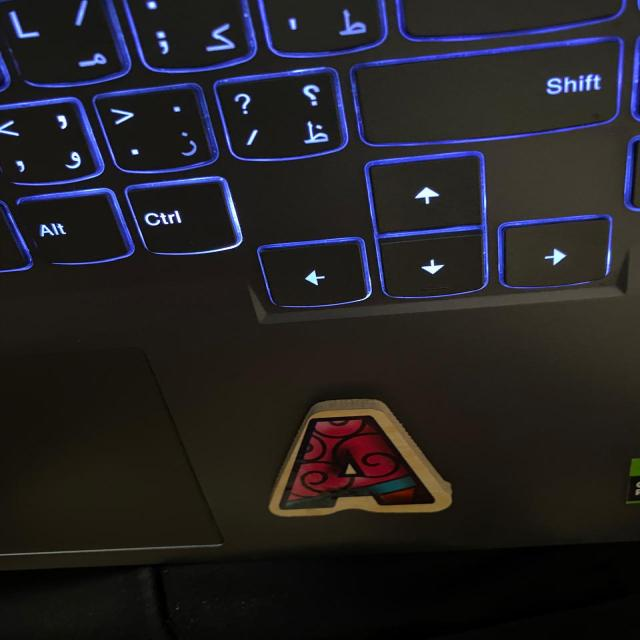A: (269, 399, 452, 517)
